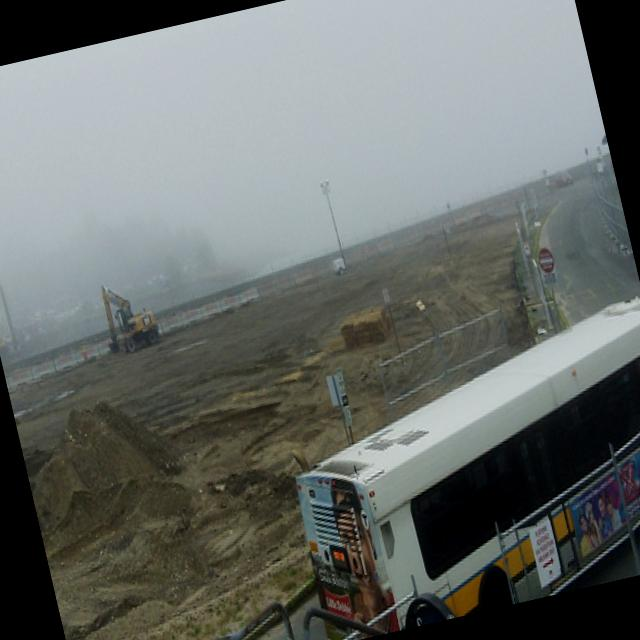Vehicle: (262, 293, 640, 640)
